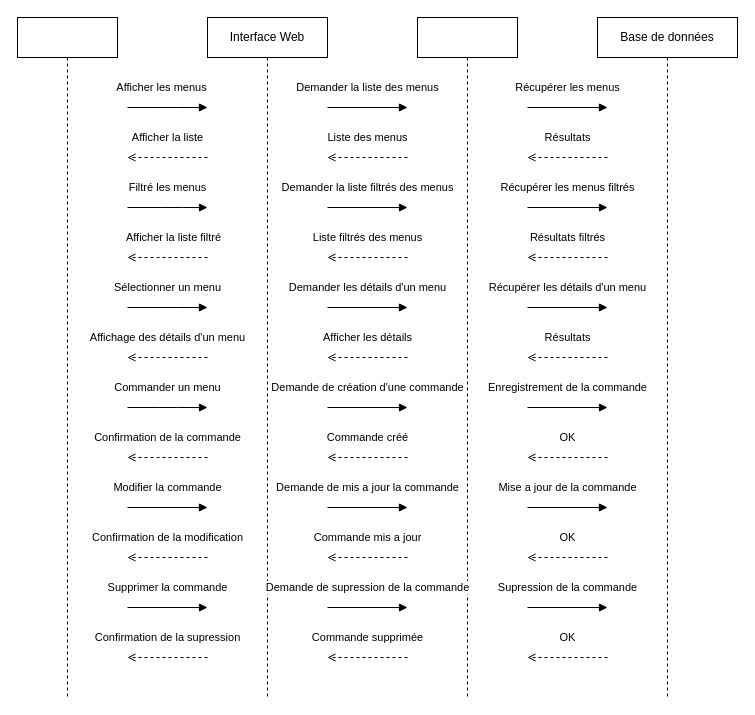
The diagram is 755 pixels wide and 715 high, and some of its shapes have lost their labels. Each missing label, with the box of its shape:
Client: (16, 16, 118, 698)
Controller: (416, 16, 518, 698)
